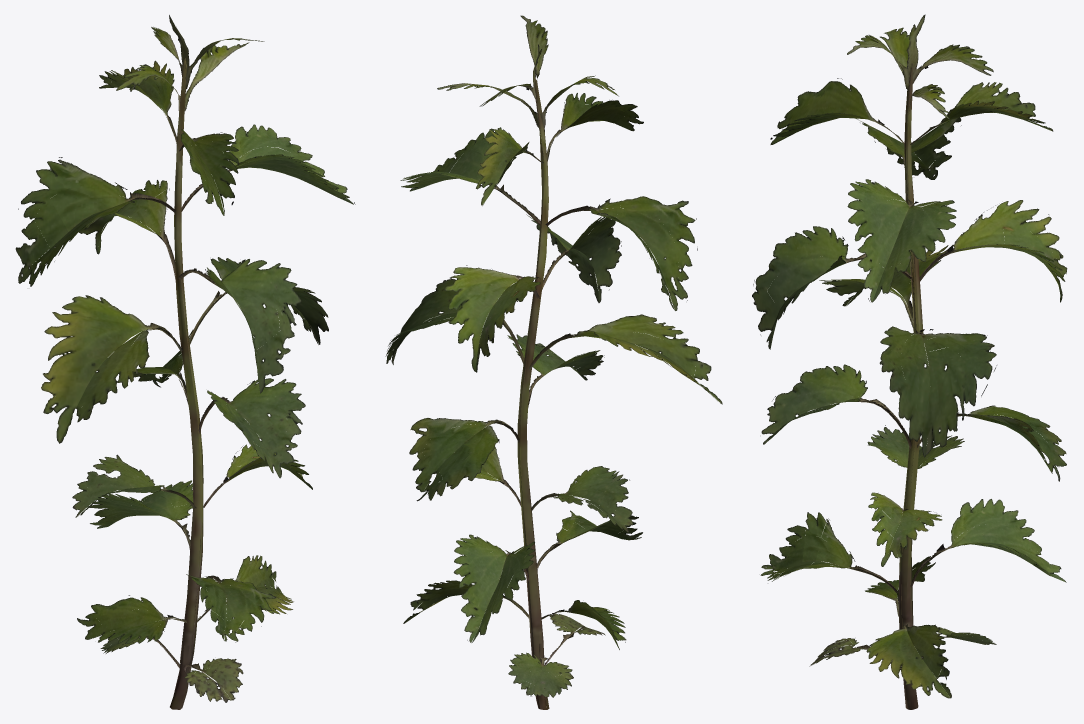
Rendered from nettle.glb.
The picture shows the model from 3 angles, left to right: view 1: azimuth 30°, elevation 25°; view 2: azimuth 150°, elevation 25°; view 3: azimuth 270°, elevation 25°; orthographic projection. The views are drawn at different scales.
Visible parts, largest first — view 1: nettle_plant_tall_a_LOD0; view 2: nettle_plant_tall_a_LOD0; view 3: nettle_plant_tall_a_LOD0.
Part boxes in pixels (x1,y1,x2,y2): nettle_plant_tall_a_LOD0: [15, 15, 355, 709]; nettle_plant_tall_a_LOD0: [385, 15, 722, 709]; nettle_plant_tall_a_LOD0: [752, 14, 1067, 709].
Bounding box in the file's own units: 0.1036 × 0.2167 × 0.0901.
Materials: 1 (1 with a texture image).
